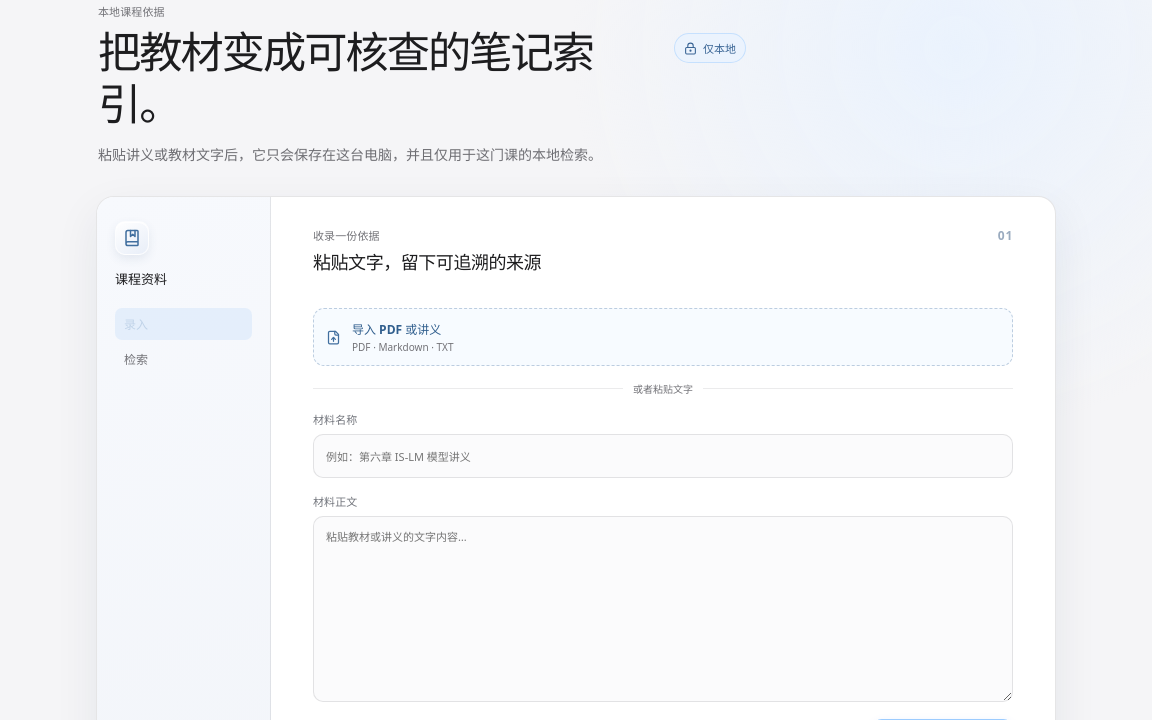
it: does not report a pasted material as saved when persistence fails
This screenshot has width=1152, height=720.
Step 1. Type "失败讲义.md" into the field labelled "材料名称" → coordinates (663, 456), box [313,434,1013,478]
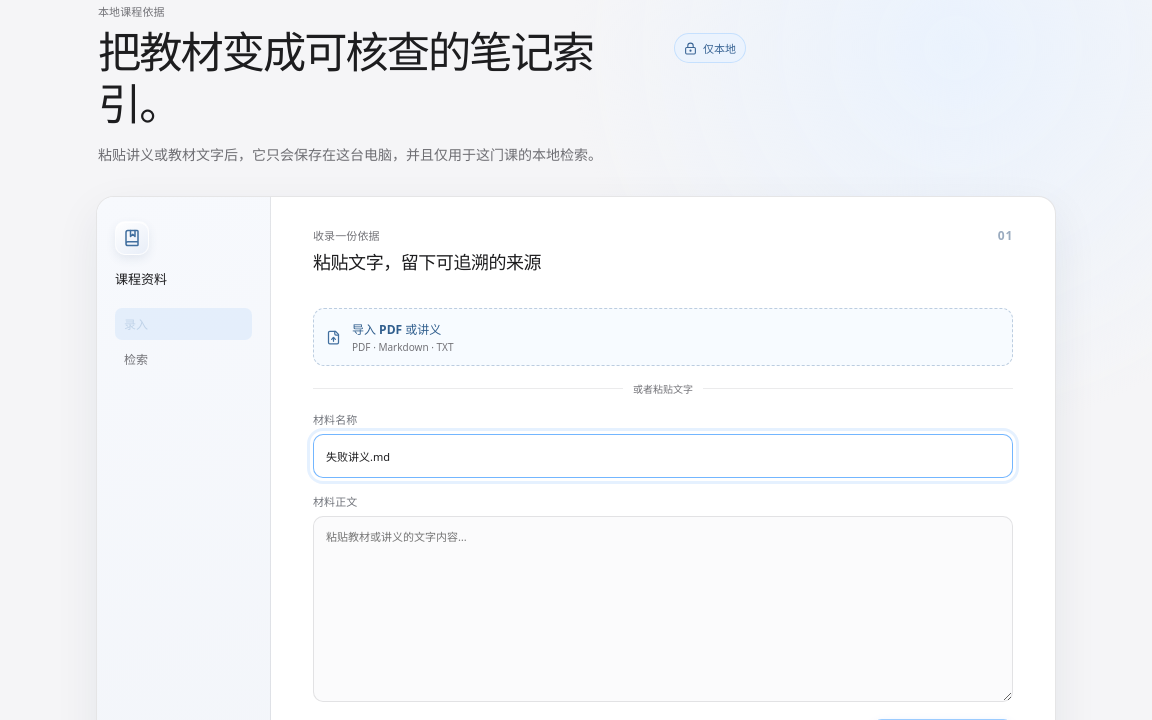
Step 2. Type "这段内容不会保存成功。" into the text box labelled "材料正文" → coordinates (663, 610), box [313,516,1013,702]
(page scrolled)
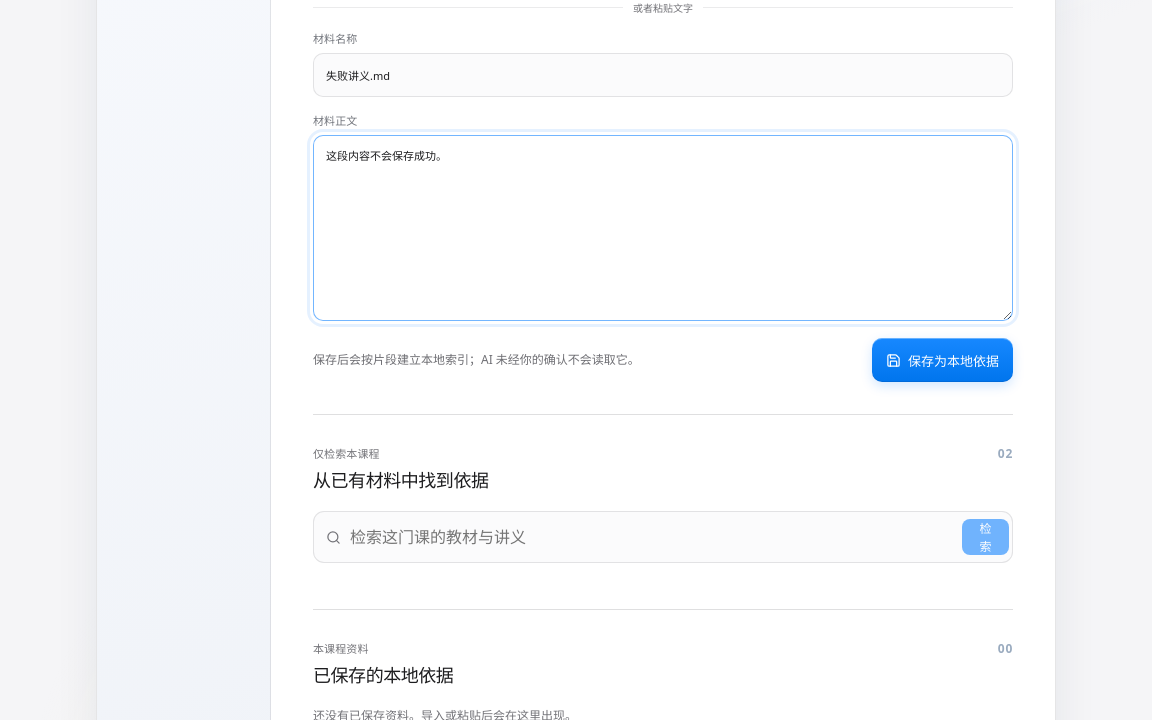
Step 3. Click the button "保存为本地依据" → coordinates (942, 360), box [872,338,1013,382]
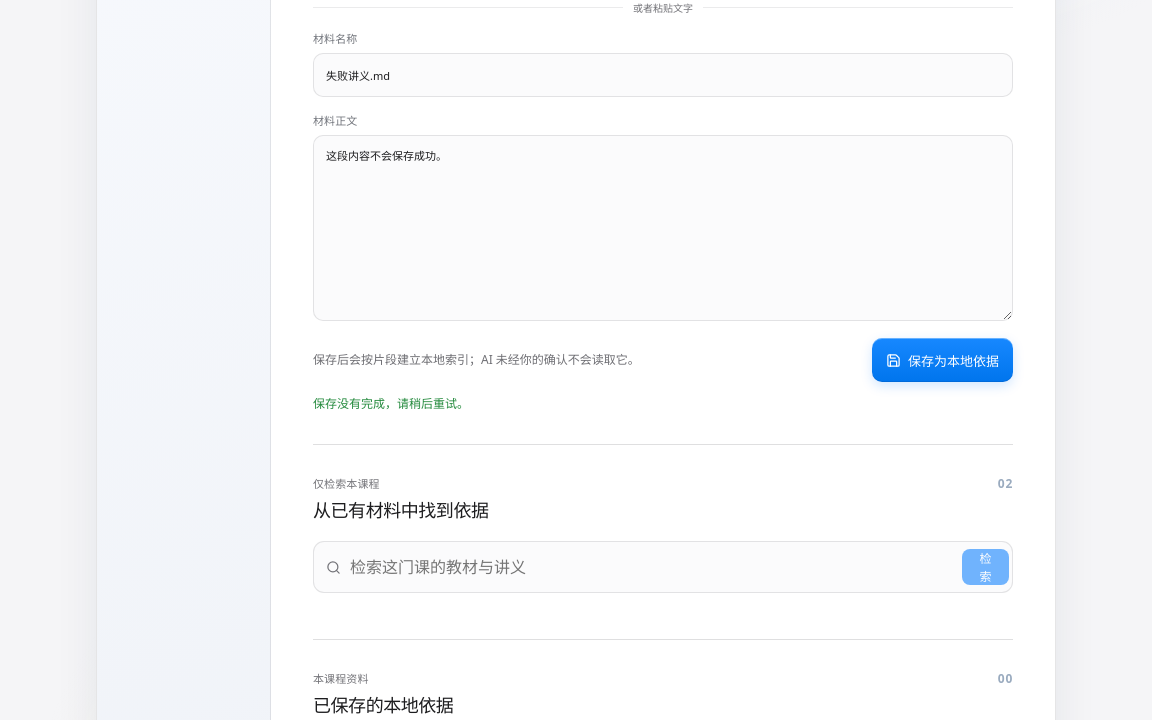
Expected: the text "保存没有完成，请稍后重试。" is shown, [313,396,469,412]
